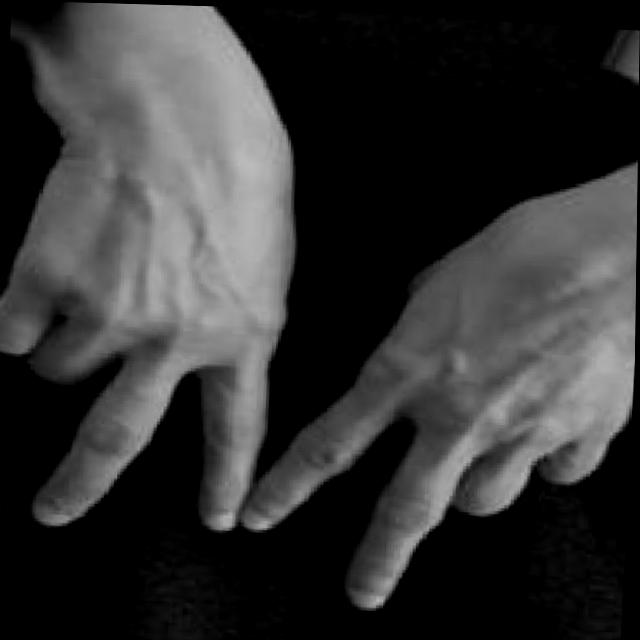M: (0, 66, 639, 630)
